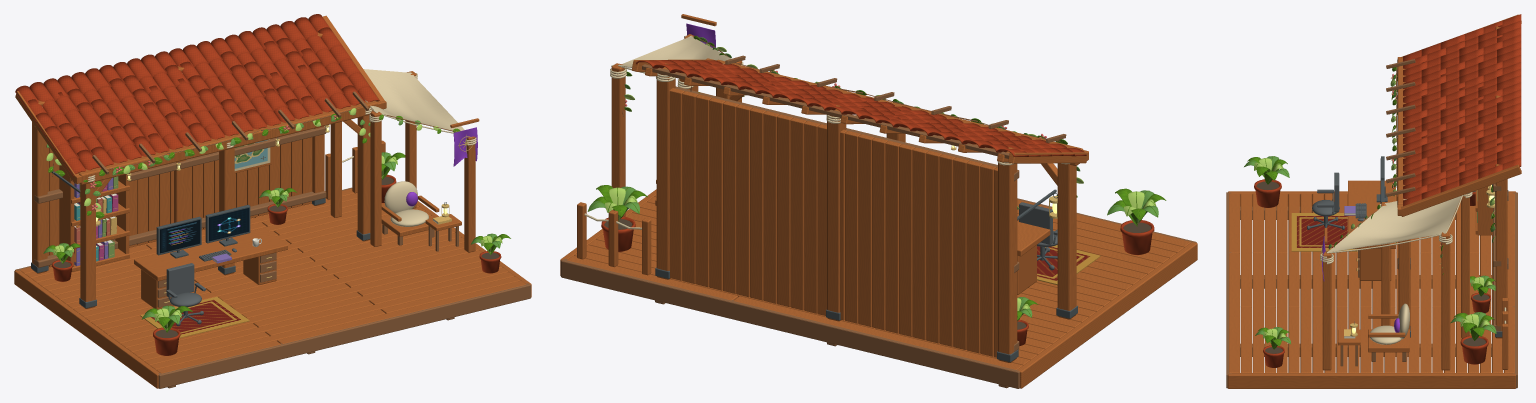
File: studio-v2.glb
3 renders of one model, left to right at view 1: azimuth 30°, elevation 25°; view 2: azimuth 150°, elevation 25°; view 3: azimuth 270°, elevation 25°, orthographic. The views are drawn at different scales.
Visible parts, largest first — view 1: Studio_Deck_Fascia_-3.97, Studio_Front_Open_Eave_Beam, Studio_Veranda_Cream_Sagged_Awning, Studio_Desk_Crafted_Notebook_Worksurface, Studio_Deck_Side_Rim_-5.97, Studio_Shell_Post_0_3.6, Studio_Backwall_Crafted_Crossbeam_2.3, Studio_Shell_Post_0_0.9, Studio_Interior_Soft_Ornamental_Rug, Studio_Deck_Plank_02_1, Studio_Veranda_Awning_Corner_Pillar_3, Studio_Shell_Post_2_0.9 (+70 smaller); view 2: Studio_Deck_Fascia_3.97, Studio_Deck_Side_Rim_-5.97, Studio_Shell_Post_0_3.6, Studio_Shell_Post_0_0.9, Studio_Backwall_Weathered_Board_15, Studio_Backwall_Weathered_Board_06, Studio_Backwall_Weathered_Board_22, Studio_Backwall_Weathered_Board_02, Studio_Backwall_Weathered_Board_04, Studio_Shell_Post_2_3.6, Studio_Backwall_Weathered_Board_08, Studio_Backwall_Weathered_Board_07 (+42 smaller); view 3: Studio_Deck_Side_Rim_5.97, Studio_Veranda_Cream_Sagged_Awning, Studio_Interior_Soft_Ornamental_Rug, Studio_Shell_Post_2_3.6, Studio_Deck_Plank_06_1, Studio_Deck_Plank_16_1, Studio_Deck_Plank_02_1, Studio_Deck_Plank_01_0, Studio_Roof_Side_Carved_Fascia_4.01, Studio_Veranda_Awning_Corner_Pillar_1, Studio_Desk_Crafted_Notebook_Worksurface, Studio_Deck_Plank_00_1 (+58 smaller).
Boxes of the visible parts, box(x1,y1,x2,y2) form: Studio_Deck_Fascia_-3.97: box(158, 283, 530, 388); Studio_Front_Open_Eave_Beam: box(78, 100, 377, 184); Studio_Veranda_Cream_Sagged_Awning: box(363, 69, 464, 131); Studio_Desk_Crafted_Notebook_Worksurface: box(134, 228, 287, 281); Studio_Deck_Side_Rim_-5.97: box(14, 270, 159, 388); Studio_Shell_Post_0_3.6: box(32, 100, 47, 273); Studio_Backwall_Crafted_Crossbeam_2.3: box(34, 126, 326, 203); Studio_Shell_Post_0_0.9: box(80, 182, 95, 308); Studio_Interior_Soft_Ornamental_Rug: box(140, 296, 249, 338); Studio_Deck_Plank_02_1: box(265, 272, 514, 335); Studio_Veranda_Awning_Corner_Pillar_3: box(370, 111, 381, 246); Studio_Shell_Post_2_0.9: box(357, 115, 370, 241); Studio_Deck_Fascia_3.97: box(561, 258, 1019, 388); Studio_Deck_Side_Rim_-5.97: box(1017, 242, 1197, 388); Studio_Shell_Post_0_3.6: box(998, 147, 1017, 362); Studio_Shell_Post_0_0.9: box(1057, 163, 1076, 319); Studio_Backwall_Weathered_Board_15: box(790, 117, 806, 310); Studio_Backwall_Weathered_Board_06: box(912, 147, 928, 339); Studio_Backwall_Weathered_Board_22: box(695, 94, 711, 287); Studio_Backwall_Weathered_Board_02: box(966, 160, 982, 353); Studio_Backwall_Weathered_Board_04: box(939, 154, 955, 346); Studio_Shell_Post_2_3.6: box(656, 63, 675, 279); Studio_Backwall_Weathered_Board_08: box(885, 140, 901, 333); Studio_Backwall_Weathered_Board_07: box(899, 144, 915, 336); Studio_Deck_Side_Rim_5.97: box(1228, 373, 1515, 388); Studio_Veranda_Cream_Sagged_Awning: box(1328, 195, 1461, 252); Studio_Interior_Soft_Ornamental_Rug: box(1291, 213, 1356, 251); Studio_Shell_Post_2_3.6: box(1495, 164, 1507, 338); Studio_Deck_Plank_06_1: box(1300, 253, 1311, 372); Studio_Deck_Plank_16_1: box(1420, 253, 1431, 372); Studio_Deck_Plank_02_1: box(1252, 253, 1263, 372); Studio_Deck_Plank_01_0: box(1240, 193, 1251, 307); Studio_Roof_Side_Carved_Fascia_4.01: box(1400, 164, 1521, 216); Studio_Veranda_Awning_Corner_Pillar_1: box(1441, 232, 1450, 370); Studio_Desk_Crafted_Notebook_Worksurface: box(1348, 180, 1395, 248); Studio_Deck_Plank_00_1: box(1229, 253, 1239, 372).
Bounding box in the file's own units: 12.1 × 6.14 × 8.21.
25 materials, 7 textured.
